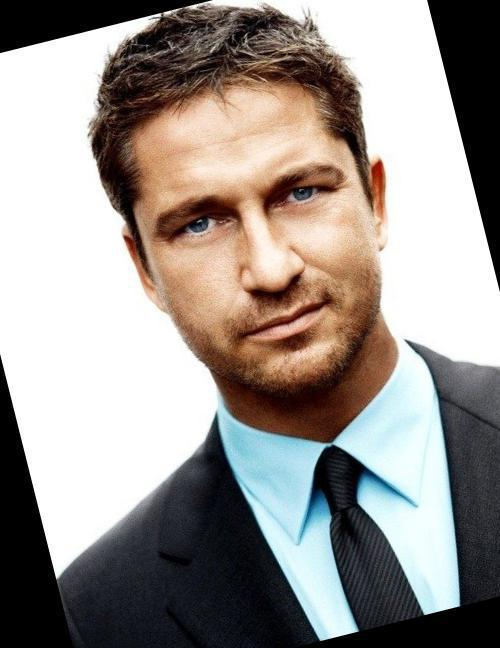Sober: (148, 95, 375, 375)
